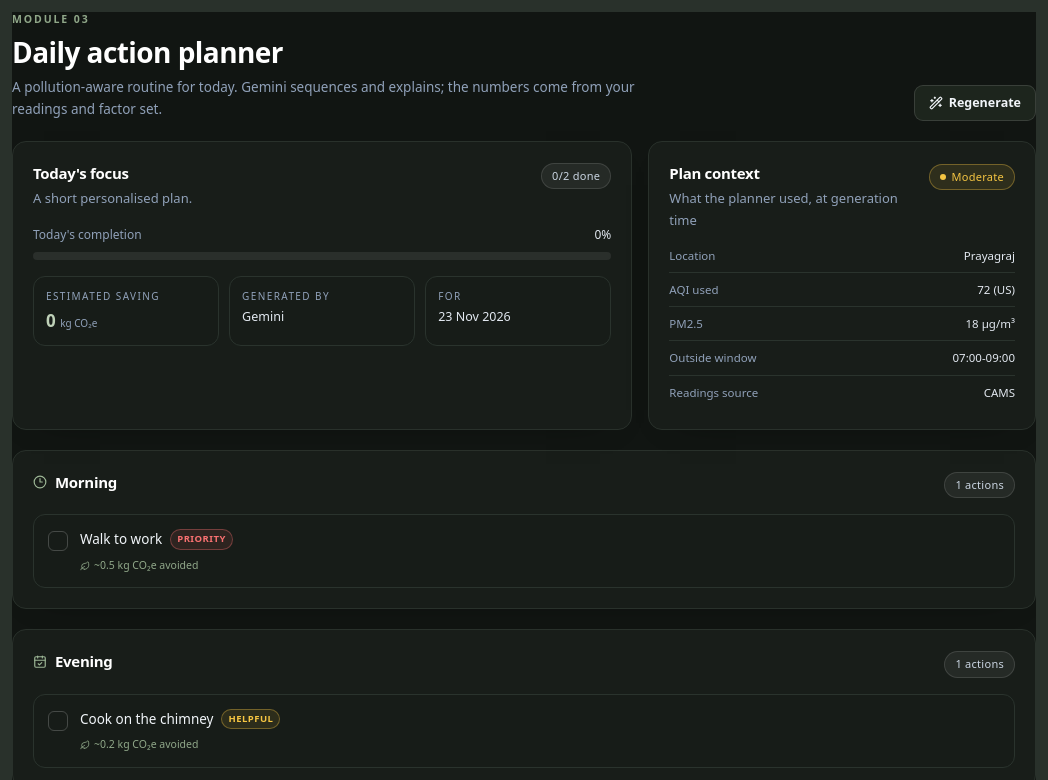
Test: DailyPlan interactions › loads a plan, toggles actions and regenerates with fresh readings
The width and height of the screenshot is (1048, 780).
Later steps or results of the test are not shown.
Check: the text "0/2 done" is shown, box [541,163,611,190]
Check: the heading "Today's focus" is shown, box [33,163,129,183]
Click the button named "Mark Walk to work as done": x=58, y=542 [48,532,68,552]
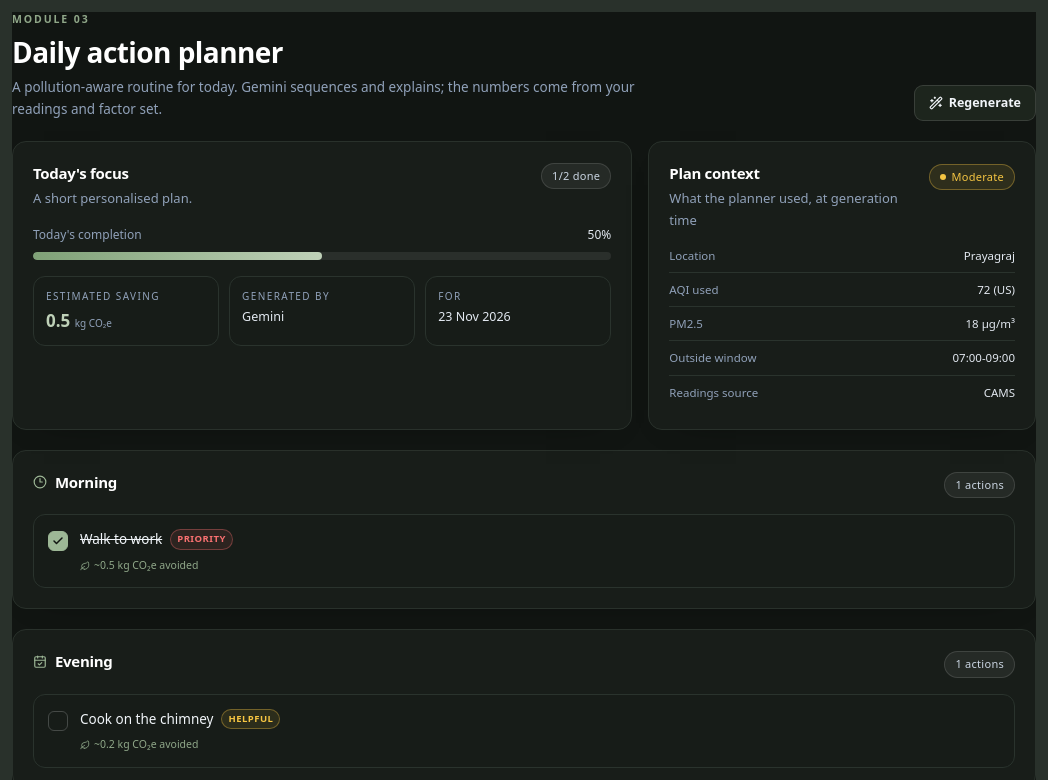
Check: the text "1/2 done" is shown, box [541,163,611,190]
